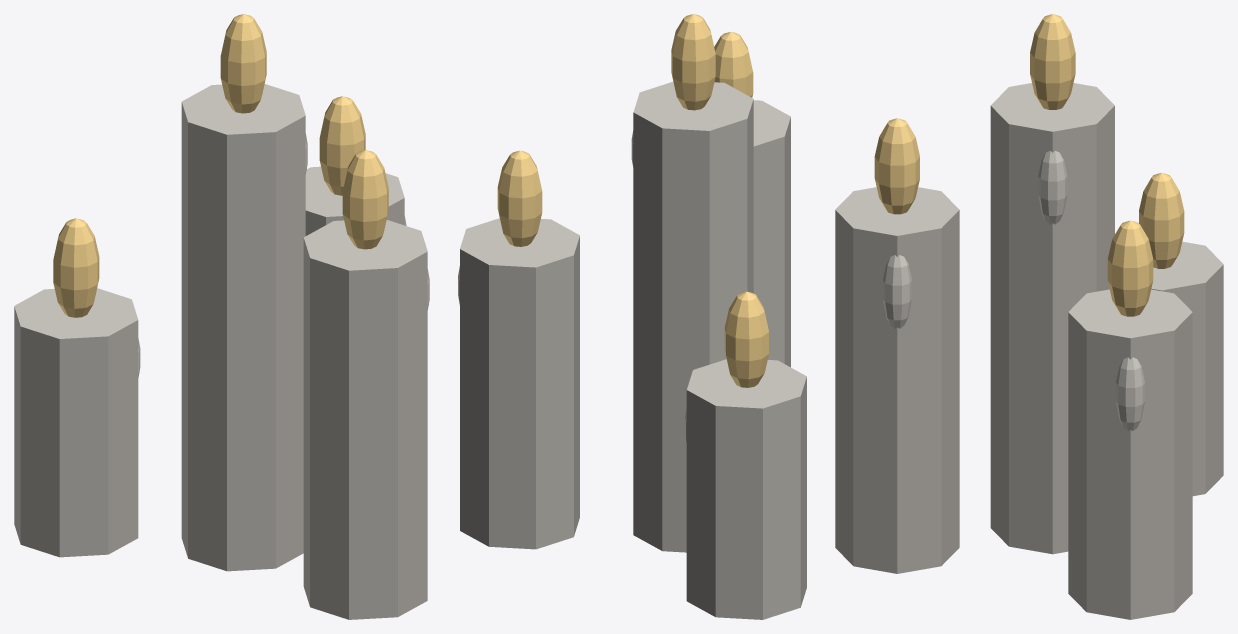
The model's file is CandleCluster.fbx.
3 views of the same model, side by side, from view 1: azimuth 30°, elevation 25°; view 2: azimuth 150°, elevation 25°; view 3: azimuth 270°, elevation 25° (orthographic). The views are drawn at different scales.
Visible parts, largest first — view 1: Prop_CandleCluster; view 2: Prop_CandleCluster; view 3: Prop_CandleCluster.
Boxes of the visible parts, x1,y1,x2,y2 form: Prop_CandleCluster: (14,14,429,619); Prop_CandleCluster: (458,14,806,619); Prop_CandleCluster: (835,14,1223,619).
Size of the model in its own units: 0.2643 by 0.365 by 0.25.
